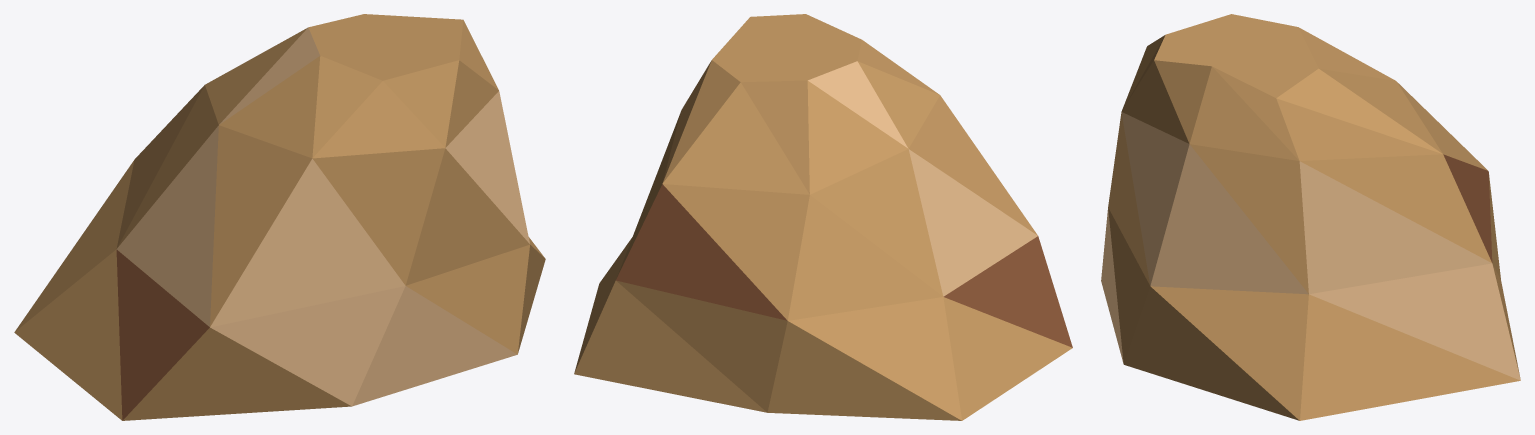
The model's file is Desert_Rock_4.glb.
The picture shows the model from 3 angles, left to right: view 1: azimuth 30°, elevation 25°; view 2: azimuth 150°, elevation 25°; view 3: azimuth 270°, elevation 25°; orthographic projection. The views are drawn at different scales.
Visible parts, largest first — view 1: Rock volume.003; view 2: Rock volume.003; view 3: Rock volume.003.
Part boxes in pixels (left/top/right/bottom): Rock volume.003: left=14, top=14, right=545, bottom=420; Rock volume.003: left=574, top=14, right=1072, bottom=420; Rock volume.003: left=1101, top=14, right=1520, bottom=420.
Bounding box in the file's own units: 1.28 × 0.7662 × 0.9907.
